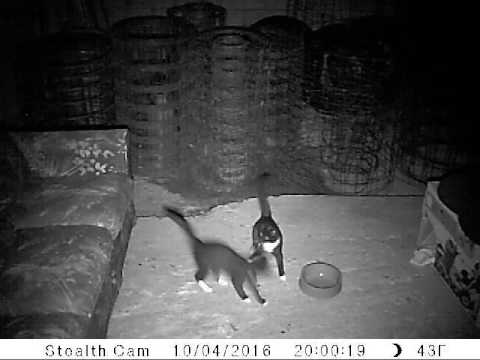house cat: (161, 195, 264, 322), (249, 180, 314, 258)
